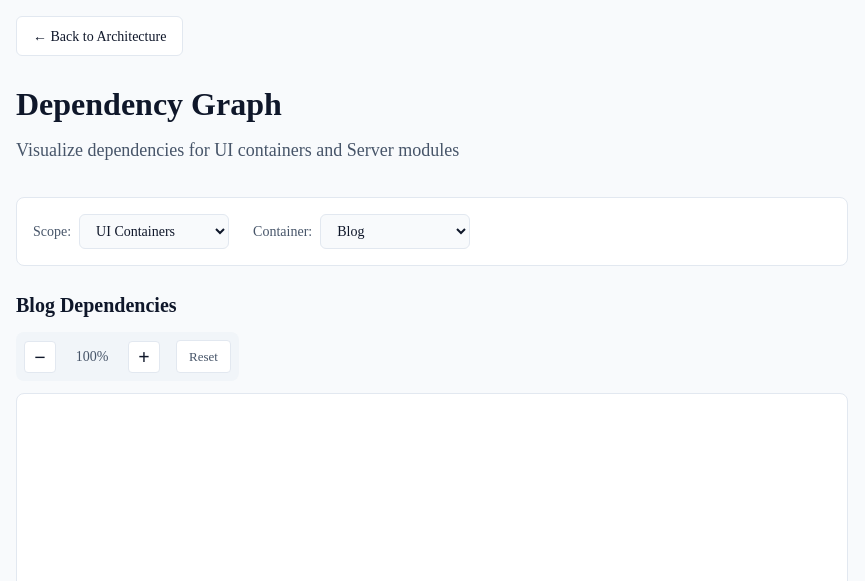
it: DependenciesContainer › should zoom in when zoom in button is clicked
Check: the text "100%" is shown, box [76,349,108,364]
Click the button named "Zoom in".
click(144, 356)  # box [128,340,160,372]
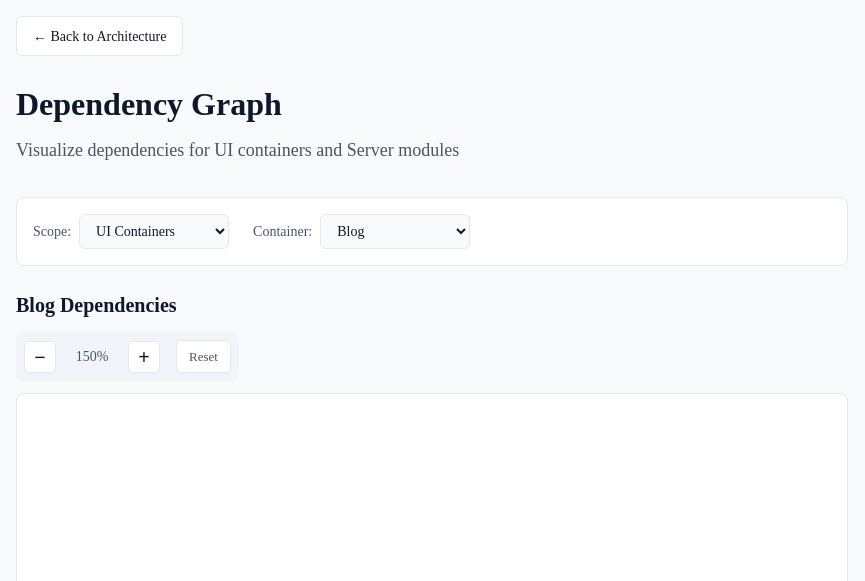
Check: the text "150%" is shown, box [76,349,108,364]
